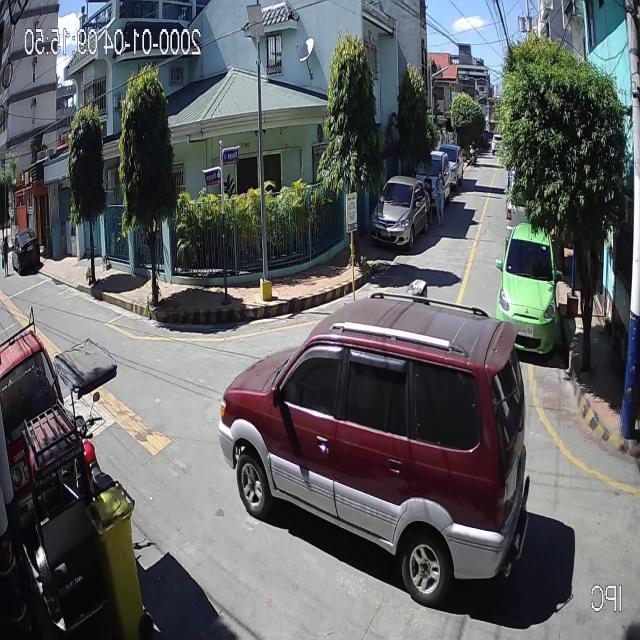standing: (438, 169, 447, 224), (426, 168, 434, 224)
